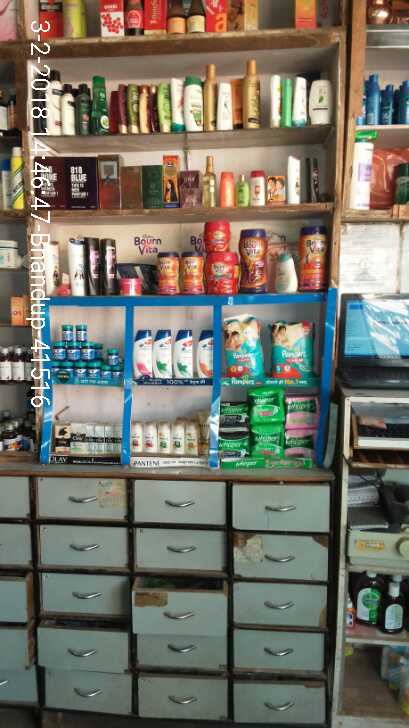beauty: (173, 332, 195, 380), (134, 328, 152, 377), (85, 426, 119, 451), (195, 326, 209, 378), (153, 334, 169, 379), (139, 419, 159, 454), (52, 426, 71, 456), (185, 422, 202, 455), (129, 420, 141, 458), (71, 423, 84, 455), (157, 424, 171, 450), (172, 426, 180, 453)
pharmacy: (220, 316, 263, 386), (273, 318, 309, 373), (247, 390, 285, 428), (247, 423, 286, 458), (219, 425, 252, 466), (216, 399, 248, 427), (288, 396, 315, 428), (285, 428, 314, 456), (79, 337, 97, 359), (65, 336, 79, 361), (105, 342, 117, 363), (62, 323, 73, 342), (74, 324, 86, 341), (55, 339, 65, 358)
